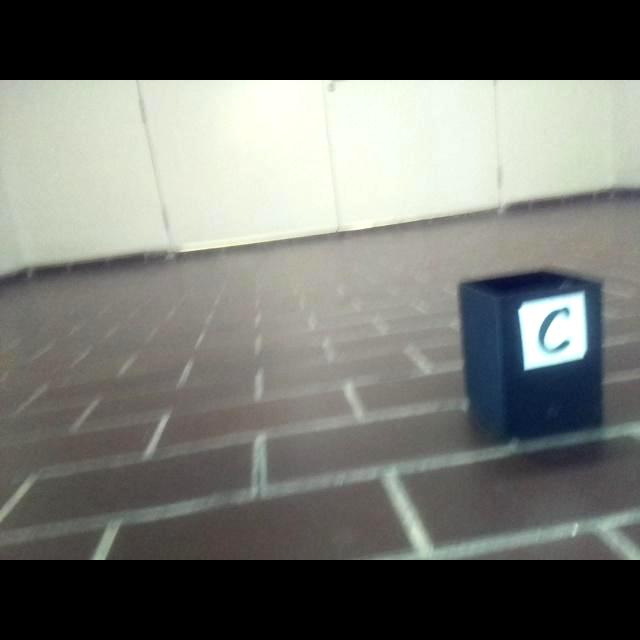C: (537, 308, 573, 354)
